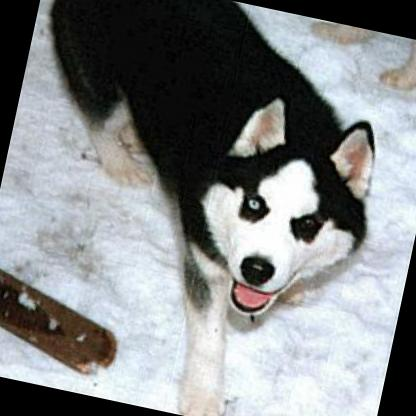Siberian_husky: (0, 0, 405, 416)
